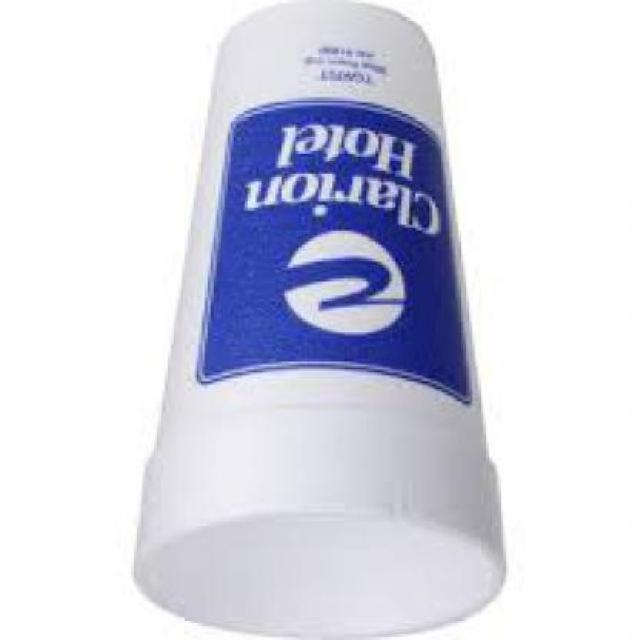PAPER: (132, 4, 511, 638)
